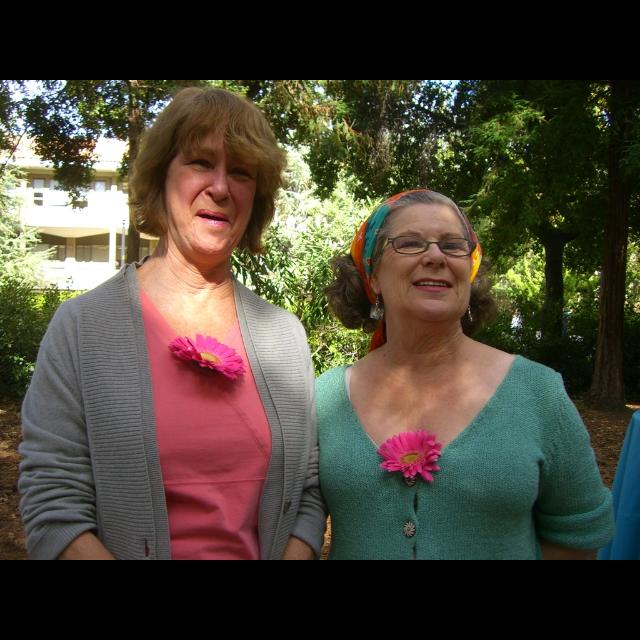Flower: (373, 438, 457, 488), (166, 332, 248, 381)
